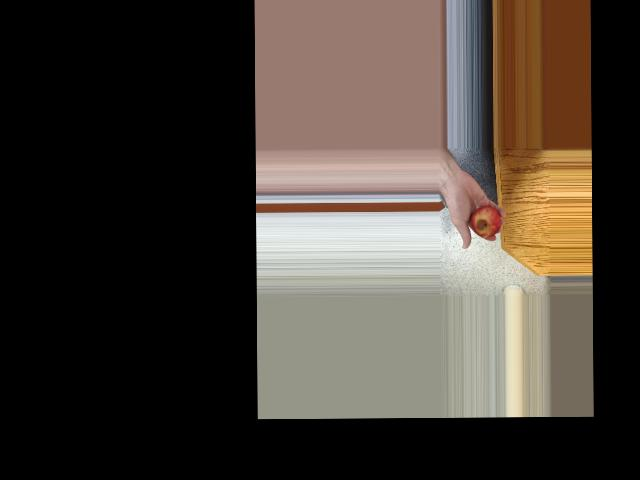apple: (466, 193, 503, 242)
